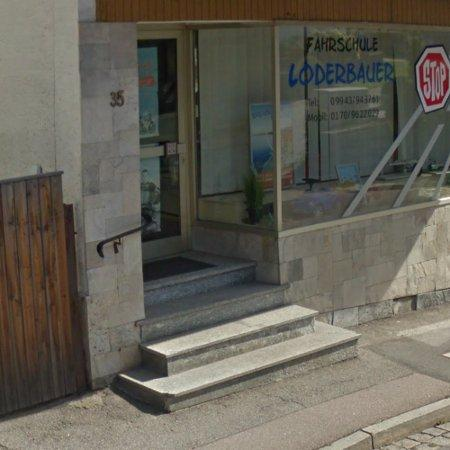stairs: (115, 253, 360, 413)
